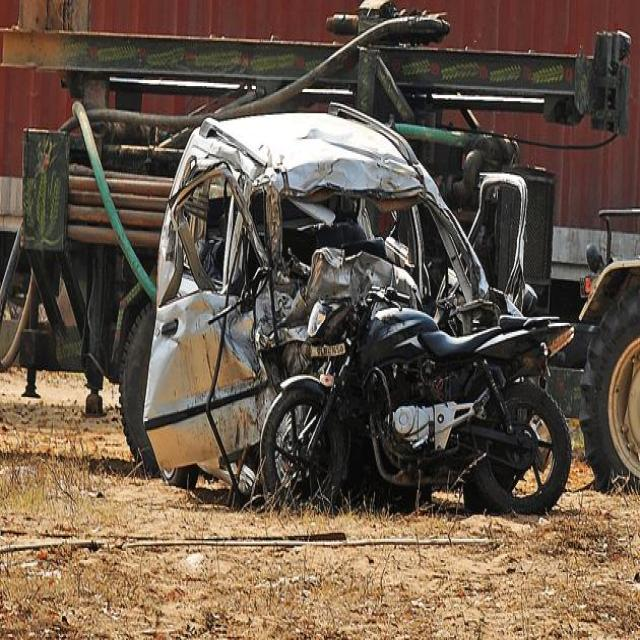accident: (144, 104, 526, 493), (260, 282, 571, 512)
